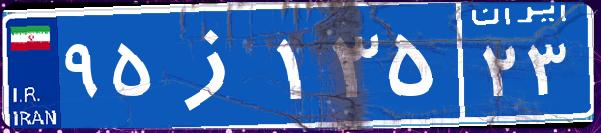1: (273, 28, 330, 110)
2: (475, 38, 525, 113)
3: (330, 28, 385, 110), (525, 38, 570, 115)
5: (385, 28, 445, 110), (110, 28, 158, 105)
9: (57, 26, 110, 107)
ز: (158, 15, 273, 115)
